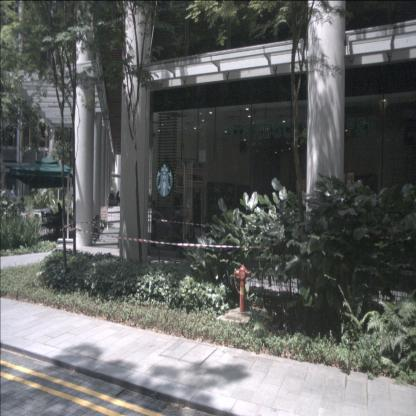human-pedestrian-adult: (55, 202, 65, 238), (10, 184, 18, 221), (116, 190, 122, 207)
